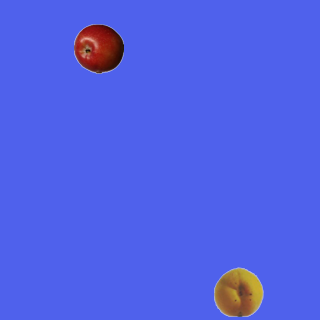Apple Braeburn: (73, 23, 123, 73)
Peach 2: (213, 266, 263, 316)
